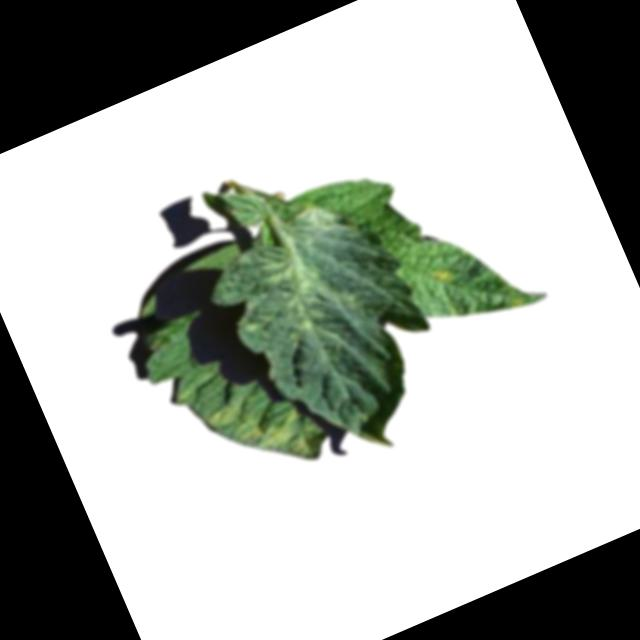Leaf_Mold: (228, 399, 320, 485), (294, 194, 354, 247), (197, 397, 245, 436), (425, 258, 462, 291), (501, 290, 529, 314)
